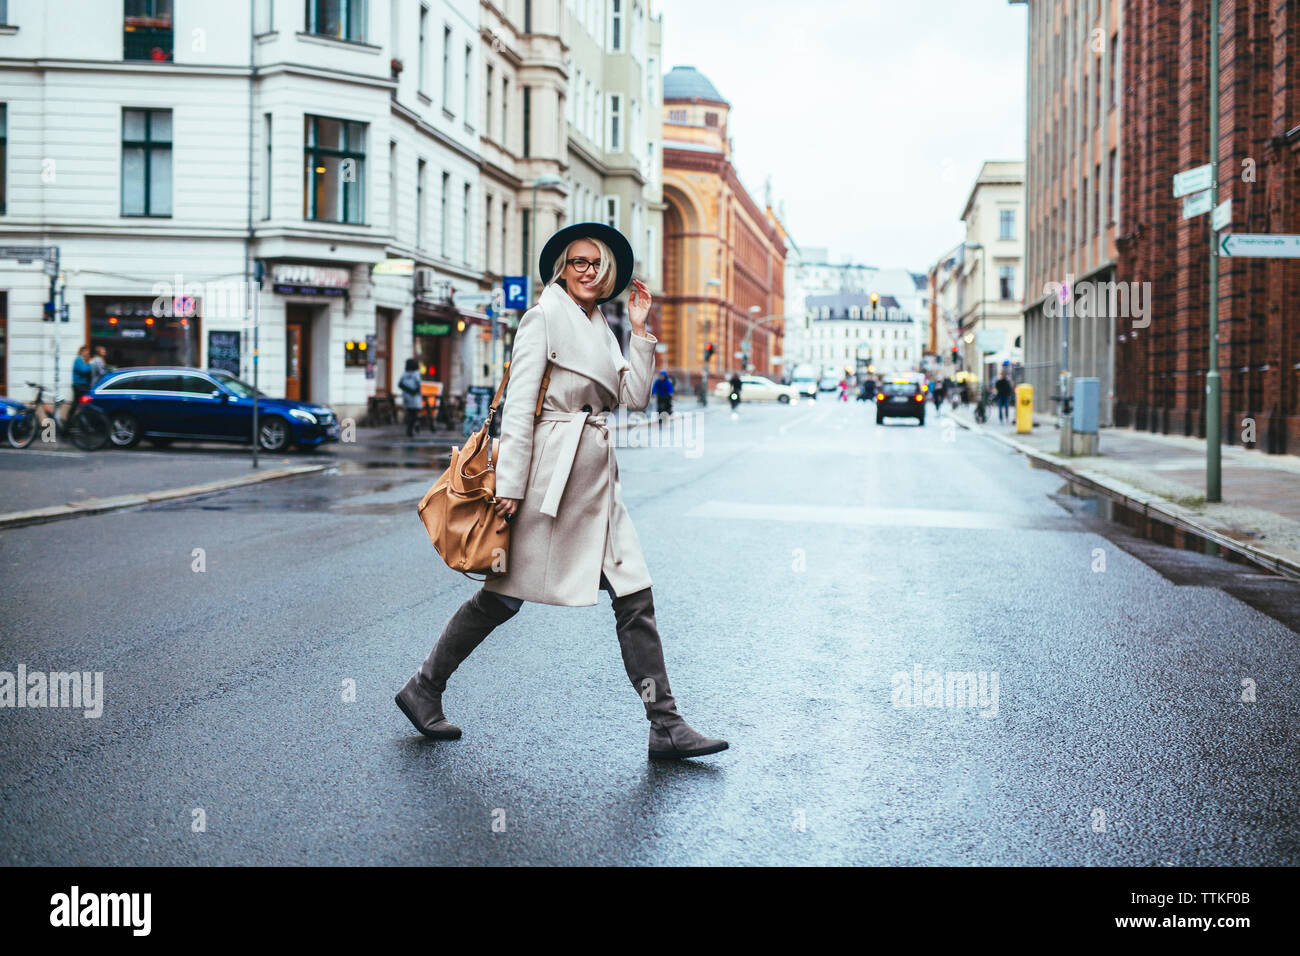person: (386, 217, 741, 773)
